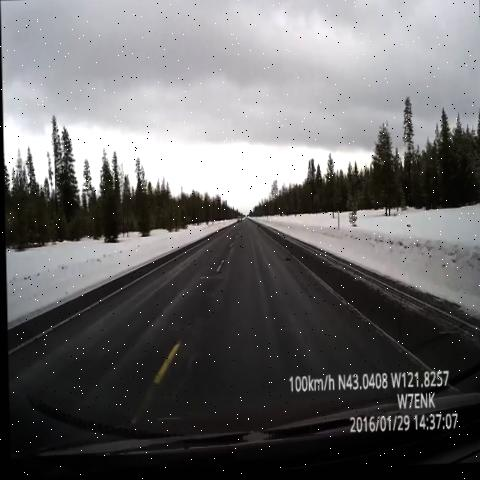pothole: (283, 249, 291, 270)
